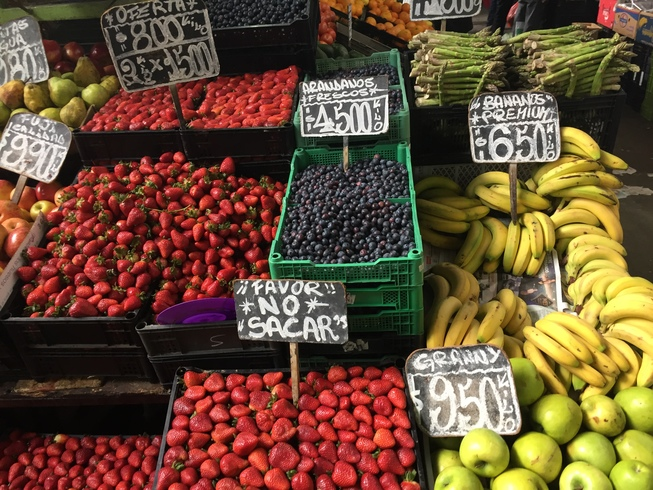precio: (105, 1, 220, 94), (402, 347, 518, 439), (231, 278, 354, 352), (466, 94, 566, 167), (1, 109, 76, 184), (305, 80, 389, 137), (1, 17, 53, 87), (409, 1, 482, 22)
